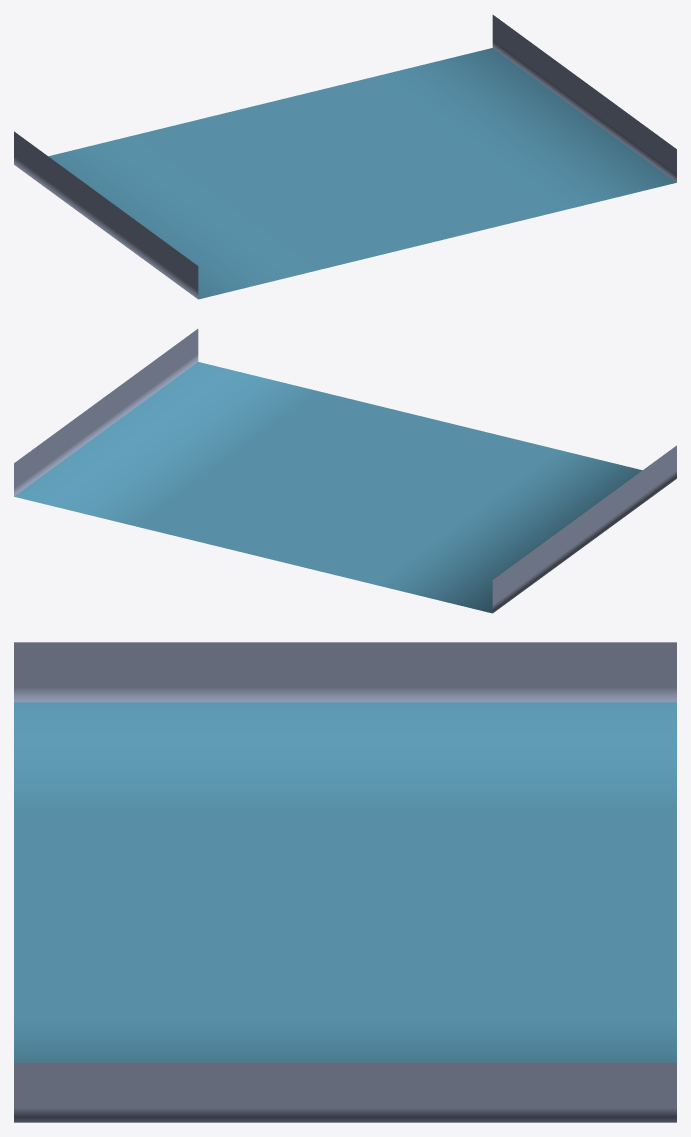
Rendered from Track01.fbx.
The picture shows the model from 3 angles, top to bottom: view 1: azimuth 30°, elevation 25°; view 2: azimuth 150°, elevation 25°; view 3: azimuth 270°, elevation 25°; orthographic projection. The views are drawn at different scales.
Visible parts, largest first — view 1: BaseTrack; view 2: BaseTrack; view 3: BaseTrack.
Part boxes in pixels (x1,y1,x2,y2): BaseTrack: (14,15,676,299); BaseTrack: (14,329,676,613); BaseTrack: (14,642,676,1122).
Bounding box in the file's own units: 300 × 20 × 200.
